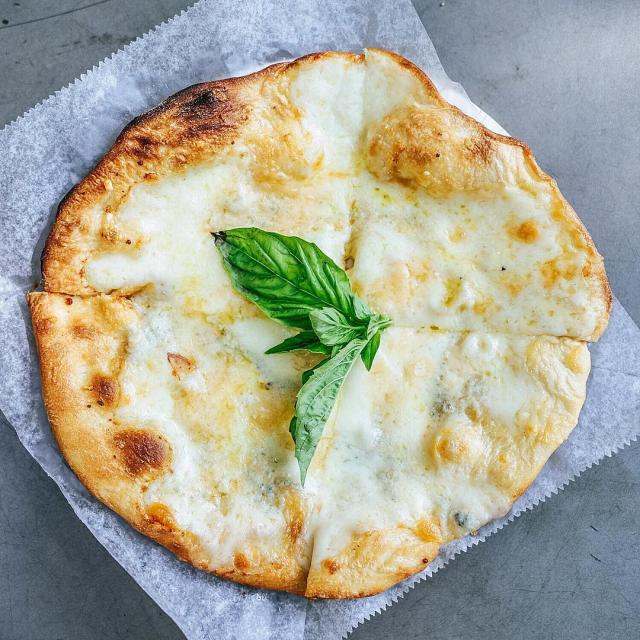basil: (213, 228, 393, 483)
pizza: (29, 49, 611, 599)
